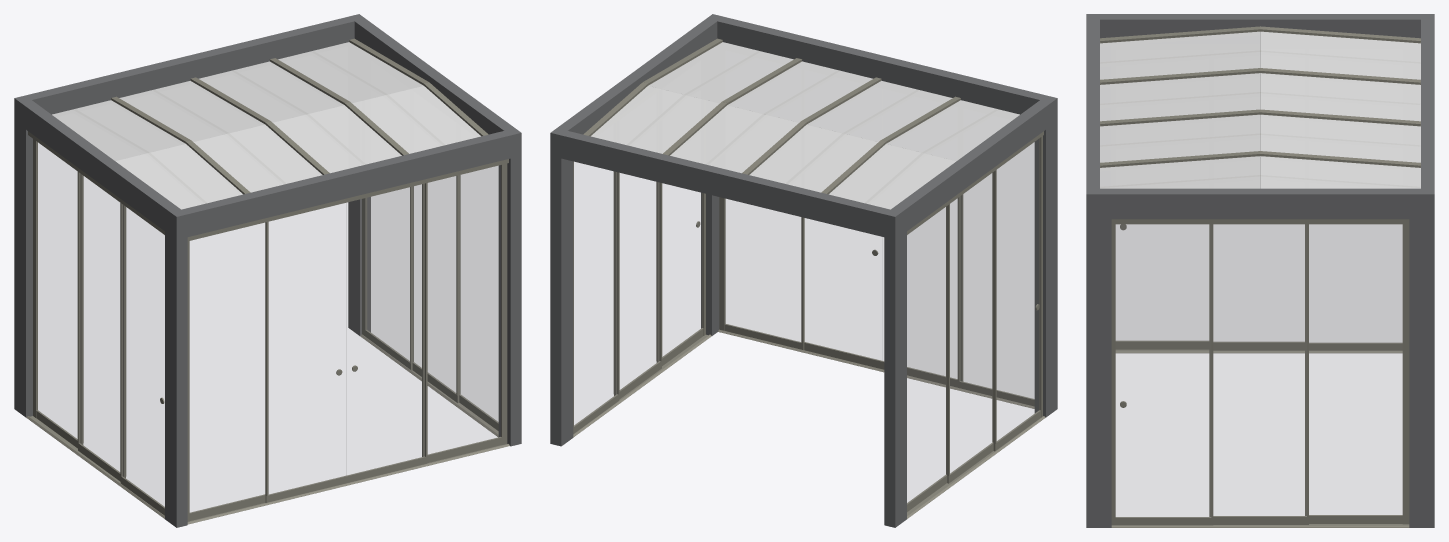
The model's file is agp_h27-w30-d24_matlightgrey.fbx.
3 renders of one model, left to right at view 1: azimuth 30°, elevation 25°; view 2: azimuth 150°, elevation 25°; view 3: azimuth 270°, elevation 25°, orthographic. The views are drawn at different scales.
Parts seen in each view (by area): view 1: agp_h27-w30-d24_darkpine.005; view 2: agp_h27-w30-d24_darkpine.005; view 3: agp_h27-w30-d24_darkpine.005.
Part boxes in pixels (box(x1,y1,x2,y2)): agp_h27-w30-d24_darkpine.005: box(14, 14, 521, 527); agp_h27-w30-d24_darkpine.005: box(550, 14, 1057, 527); agp_h27-w30-d24_darkpine.005: box(1086, 14, 1434, 527).
Bounding box in the file's own units: 313 × 270 × 255.
4 materials, 2 textured.
